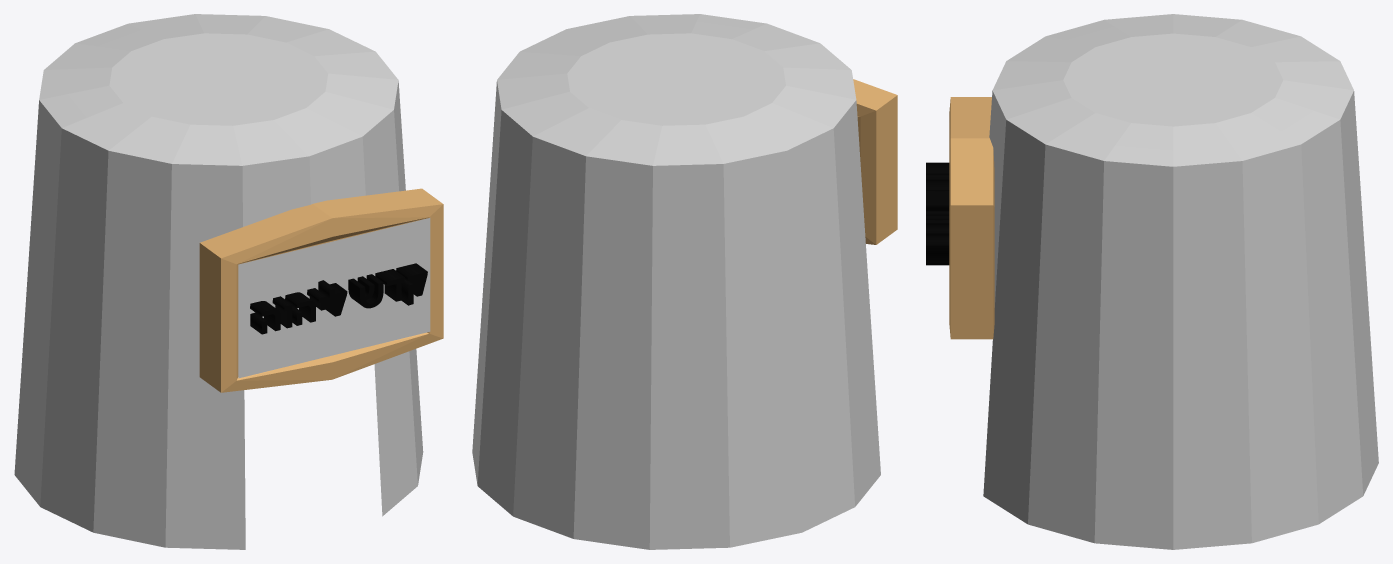
The model's file is Mitre.glb.
3 renders of one model, left to right at view 1: azimuth 30°, elevation 25°; view 2: azimuth 150°, elevation 25°; view 3: azimuth 270°, elevation 25°, orthographic.
Visible parts, largest first — view 1: Cylinder, Coin, Plaque, path157935; view 2: Cylinder, Coin; view 3: Cylinder, Coin, path157935.
Boxes of the visible parts, left/top/right/bottom form: Cylinder: left=14, top=14, right=423, bottom=549; Coin: left=199, top=188, right=443, bottom=392; Plaque: left=238, top=218, right=430, bottom=378; path157935: left=250, top=263, right=427, bottom=334; Cylinder: left=472, top=14, right=880, bottom=549; Coin: left=853, top=79, right=897, bottom=244; Cylinder: left=983, top=14, right=1378, bottom=549; Coin: left=949, top=97, right=994, bottom=339; path157935: left=926, top=162, right=949, bottom=265.
Bounding box in the file's own units: 2.26 × 2.32 × 2.49.
